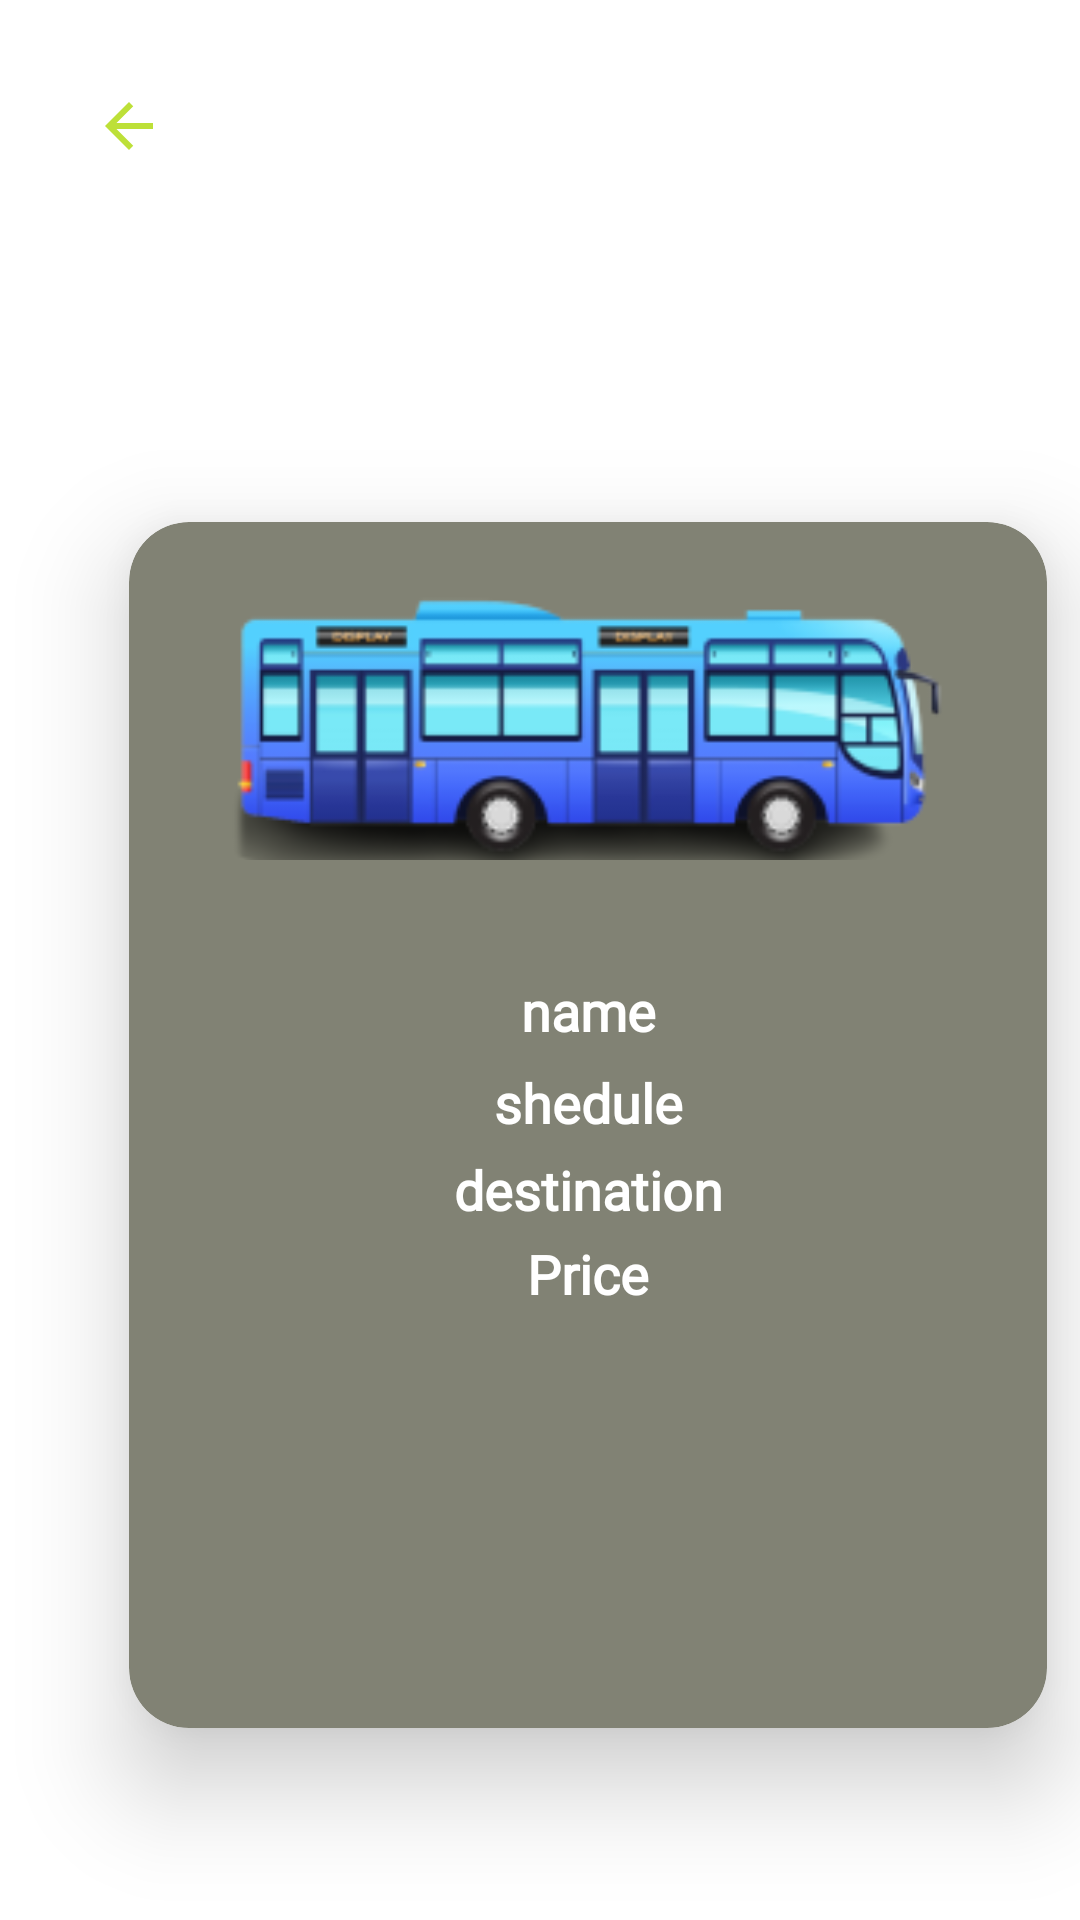

Point at icon controls on the screen. Image size 1080px x 1920px, points as (x,y).
arrow back: (129,126)
